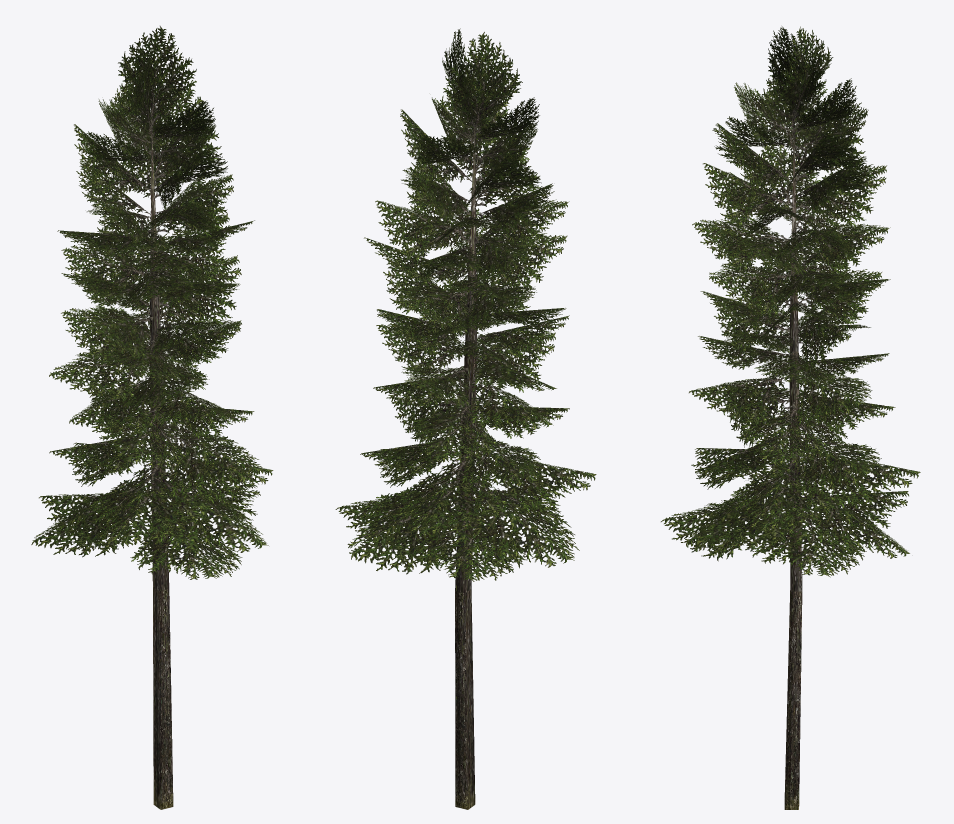
The model's file is OZ_00_hd_tree03C.glb.
3 views of the same model, side by side, from view 1: azimuth 30°, elevation 25°; view 2: azimuth 150°, elevation 25°; view 3: azimuth 270°, elevation 25° (orthographic).
Visible parts, largest first — view 1: OM_00_hd_tree03C; view 2: OM_00_hd_tree03C; view 3: OM_00_hd_tree03C.
Part boxes in pixels (x1,y1,x2,y2): OM_00_hd_tree03C: [31, 26, 273, 809]; OM_00_hd_tree03C: [335, 28, 596, 809]; OM_00_hd_tree03C: [661, 26, 920, 809].
Size of the model in its own units: 7.72 by 22.4 by 7.57.
Materials: 2 (2 with a texture image).
